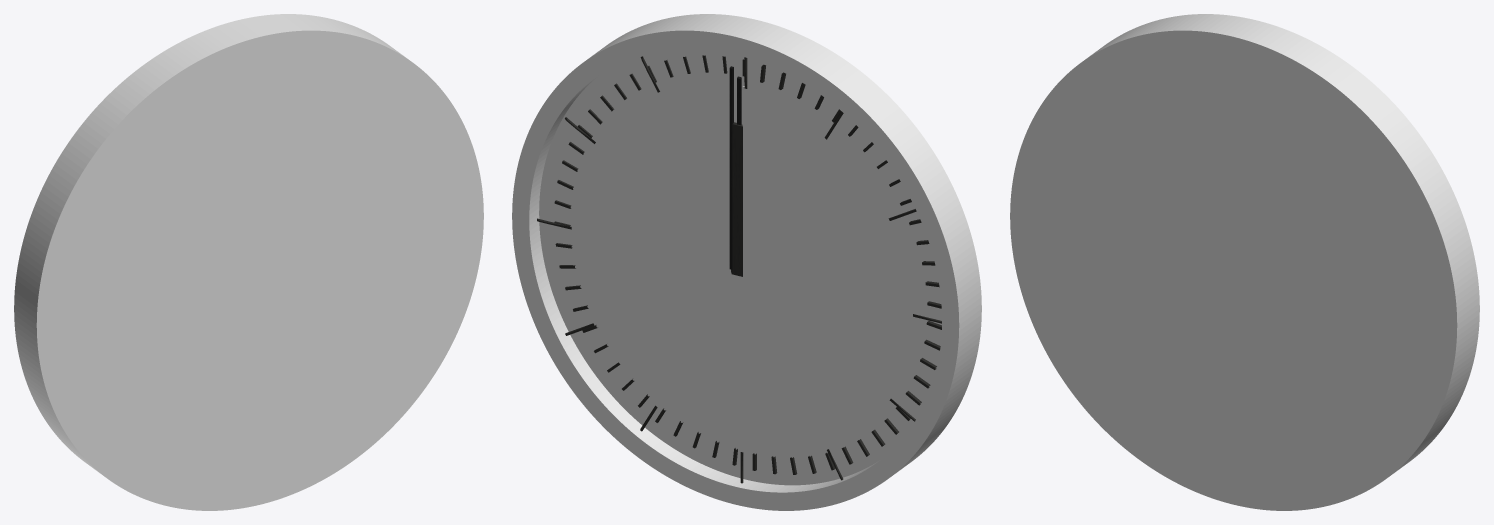
File: ceas.fbx
3 renders of one model, left to right at view 1: azimuth 30°, elevation 25°; view 2: azimuth 150°, elevation 25°; view 3: azimuth 330°, elevation 25°, orthographic.
Parts seen in each view (by area): view 1: Circle.001; view 2: Circle.001; view 3: Circle.001.
Part boxes in pixels (bbox=[...]): Circle.001: bbox=[14, 14, 483, 510]; Circle.001: bbox=[512, 14, 981, 510]; Circle.001: bbox=[1010, 14, 1479, 510].
Size of the model in its own units: 200 by 200 by 18.
3 materials, 3 textured.
